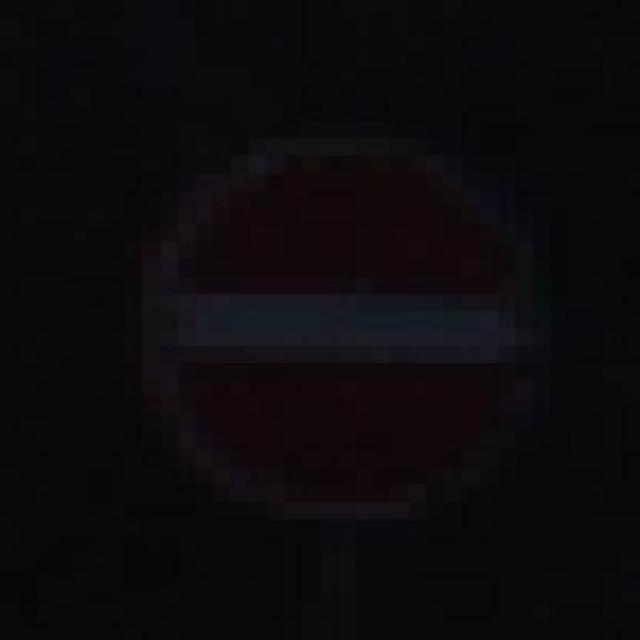No Entry: (70, 104, 604, 536)
